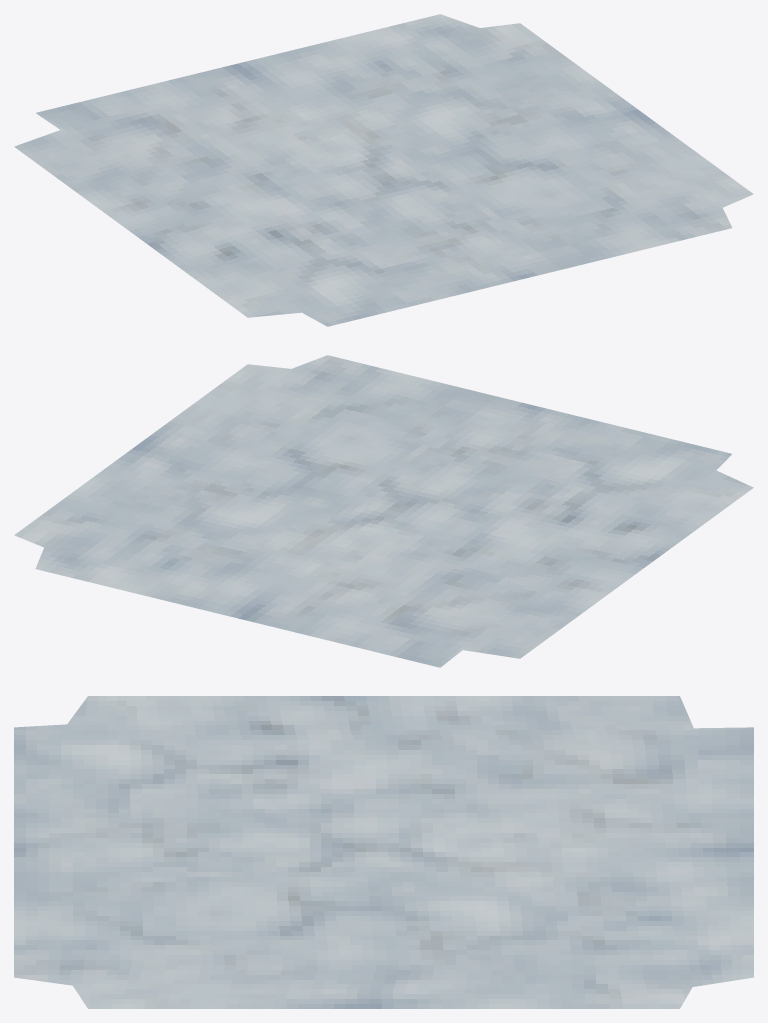
File: SnowyRoadt X.fbx
The picture shows the model from 3 angles, top to bottom: view 1: azimuth 30°, elevation 25°; view 2: azimuth 150°, elevation 25°; view 3: azimuth 270°, elevation 25°; orthographic projection. The views are drawn at different scales.
Parts seen in each view (by area): view 1: SnowyRoadt_X; view 2: SnowyRoadt_X; view 3: SnowyRoadt_X.
Part boxes in pixels (<box>): SnowyRoadt_X: <box>14,14,753,326</box>; SnowyRoadt_X: <box>14,355,753,667</box>; SnowyRoadt_X: <box>14,696,753,1008</box>.
Size of the model in its own units: 1 by 0 by 1.
